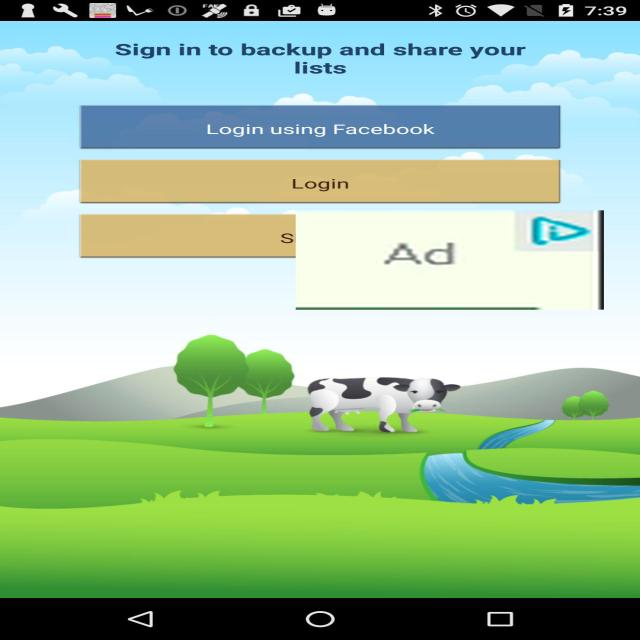sneaking: (296, 210, 604, 310)
